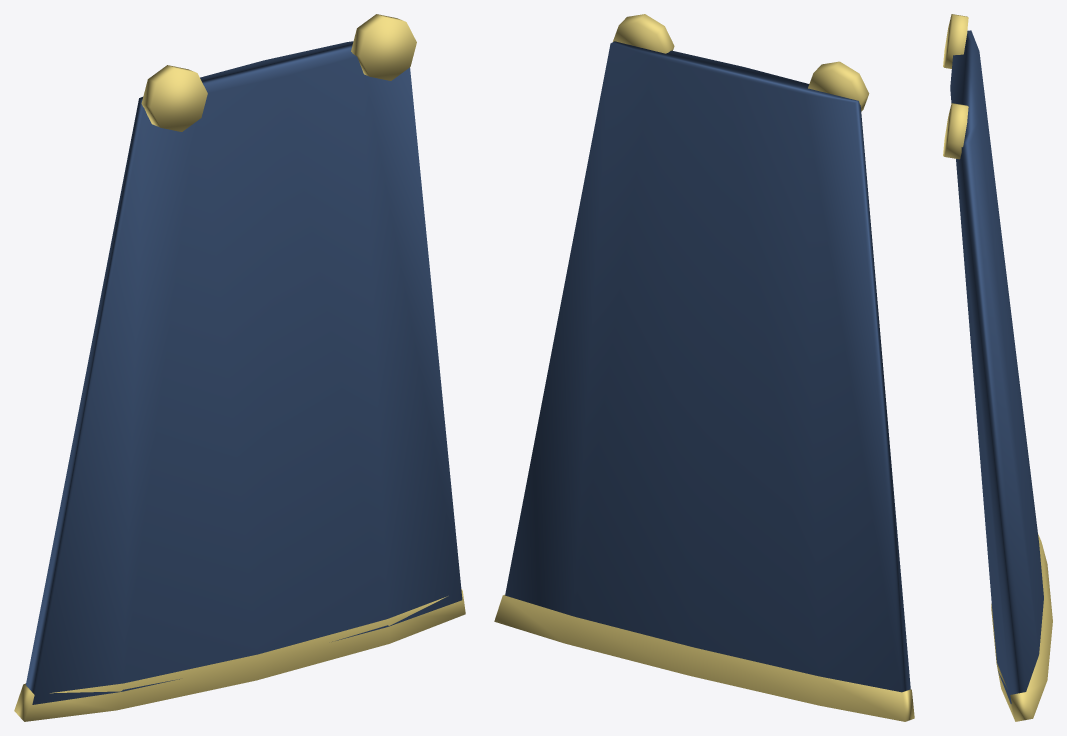
Rendered from dragon_cape.glb.
3 renders of one model, left to right at view 1: azimuth 30°, elevation 25°; view 2: azimuth 150°, elevation 25°; view 3: azimuth 270°, elevation 25°, orthographic. The views are drawn at different scales.
Parts seen in each view (by area): view 1: CapeCloth, CapeGoldHem, Cylinder, Cylinder.001; view 2: CapeCloth, CapeGoldHem, Cylinder, Cylinder.001; view 3: CapeCloth, CapeGoldHem, Cylinder.001, Cylinder.
Part boxes in pixels (x1,y1,x2,y2): CapeCloth: [26, 41, 462, 704]; CapeGoldHem: [14, 589, 465, 721]; Cylinder: [141, 65, 207, 131]; Cylinder.001: [351, 14, 416, 80]; CapeCloth: [505, 41, 910, 692]; CapeGoldHem: [494, 594, 914, 721]; Cylinder: [808, 61, 869, 111]; Cylinder.001: [613, 14, 674, 53]; CapeCloth: [950, 30, 1043, 703]; CapeGoldHem: [991, 534, 1052, 721]; Cylinder.001: [943, 103, 968, 159]; Cylinder: [943, 14, 968, 68].
Size of the model in its own units: 0.8445 by 1.2 by 0.2087.
